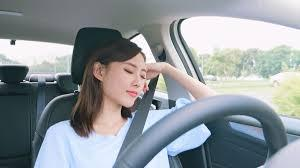Drowsy: (75, 35, 172, 139)
